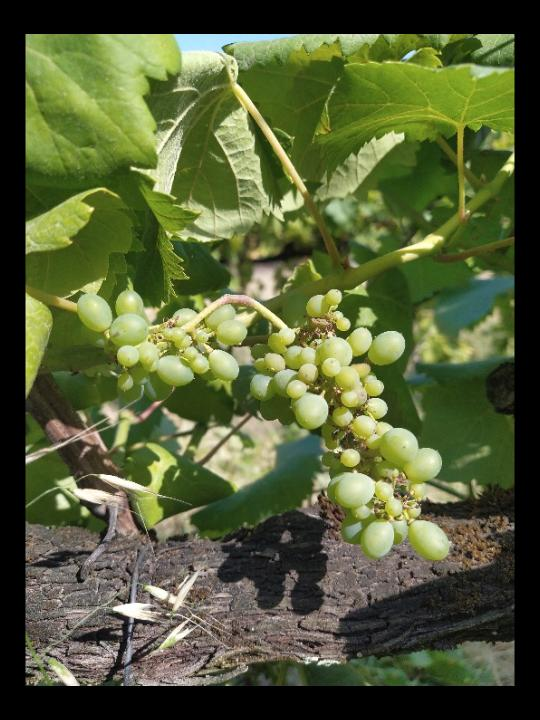grape: (73, 278, 457, 567)
